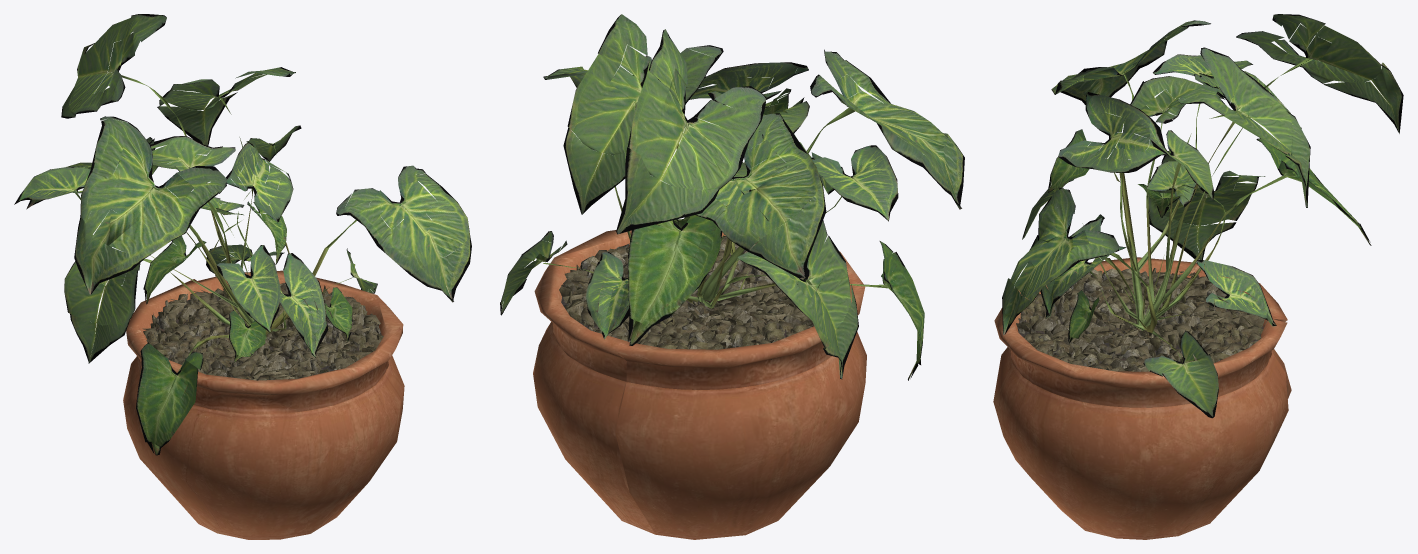
Rendered from ASSET_potted_plant_02.glb.
3 renders of one model, left to right at view 1: azimuth 30°, elevation 25°; view 2: azimuth 150°, elevation 25°; view 3: azimuth 270°, elevation 25°, orthographic. The views are drawn at different scales.
Parts seen in each view (by area): view 1: ASSET_potted_plant_02; view 2: ASSET_potted_plant_02; view 3: ASSET_potted_plant_02.
Boxes of the visible parts, bbox=[...] form: ASSET_potted_plant_02: bbox=[14, 14, 471, 539]; ASSET_potted_plant_02: bbox=[500, 14, 964, 539]; ASSET_potted_plant_02: bbox=[993, 14, 1403, 539].
Size of the model in its own units: 0.7009 by 0.8419 by 0.6578.
2 materials, 2 textured.
